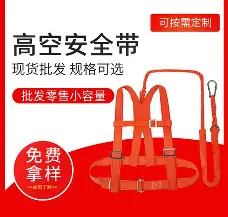safety belt: (99, 79, 221, 195)
